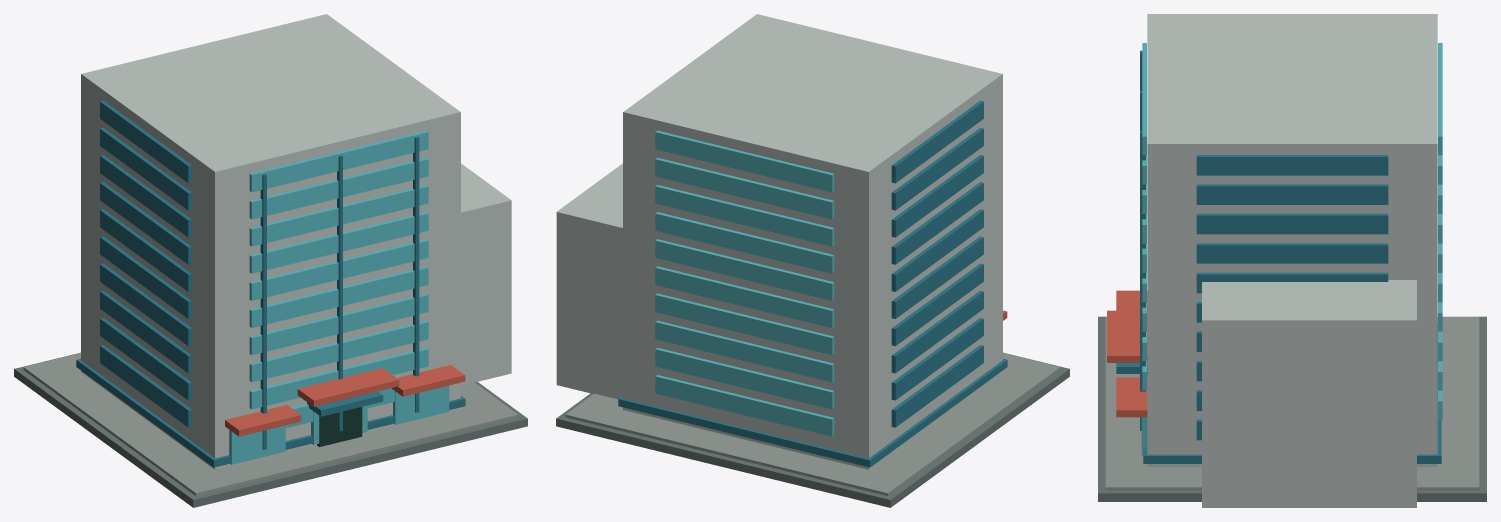
The model's file is office_lv2.glb.
The picture shows the model from 3 angles, left to right: view 1: azimuth 30°, elevation 25°; view 2: azimuth 150°, elevation 25°; view 3: azimuth 270°, elevation 25°; orthographic projection. The views are drawn at different scales.
Visible parts, largest first — view 1: rough, glossy; view 2: rough, glossy; view 3: rough, glossy.
Boxes of the visible parts, x1,y1,x2,y2 form: rough: (14,14,527,507); glossy: (76,100,465,467); rough: (556,14,1069,507); glossy: (618,100,1007,467); rough: (1098,14,1486,507); glossy: (1116,43,1442,463).
Bounding box in the file's own units: 10.73 × 8.64 × 9.1.
